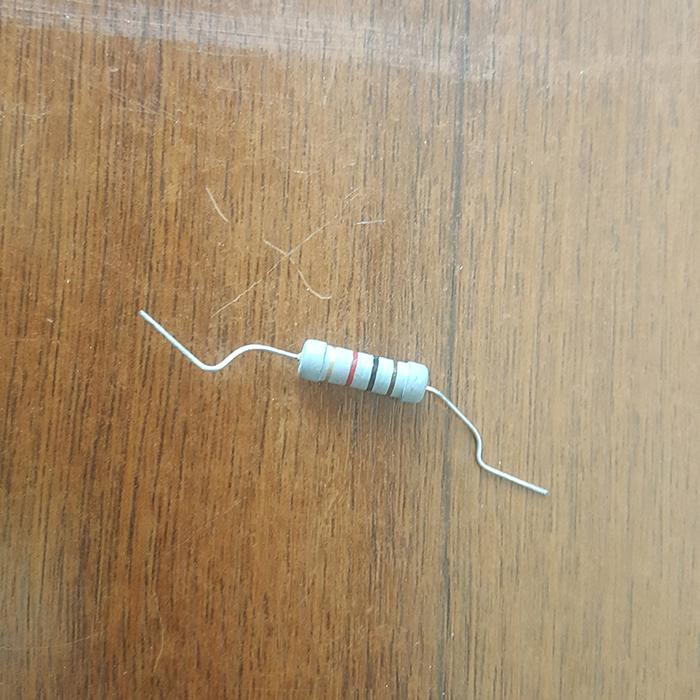resistor: (297, 337, 432, 403)
